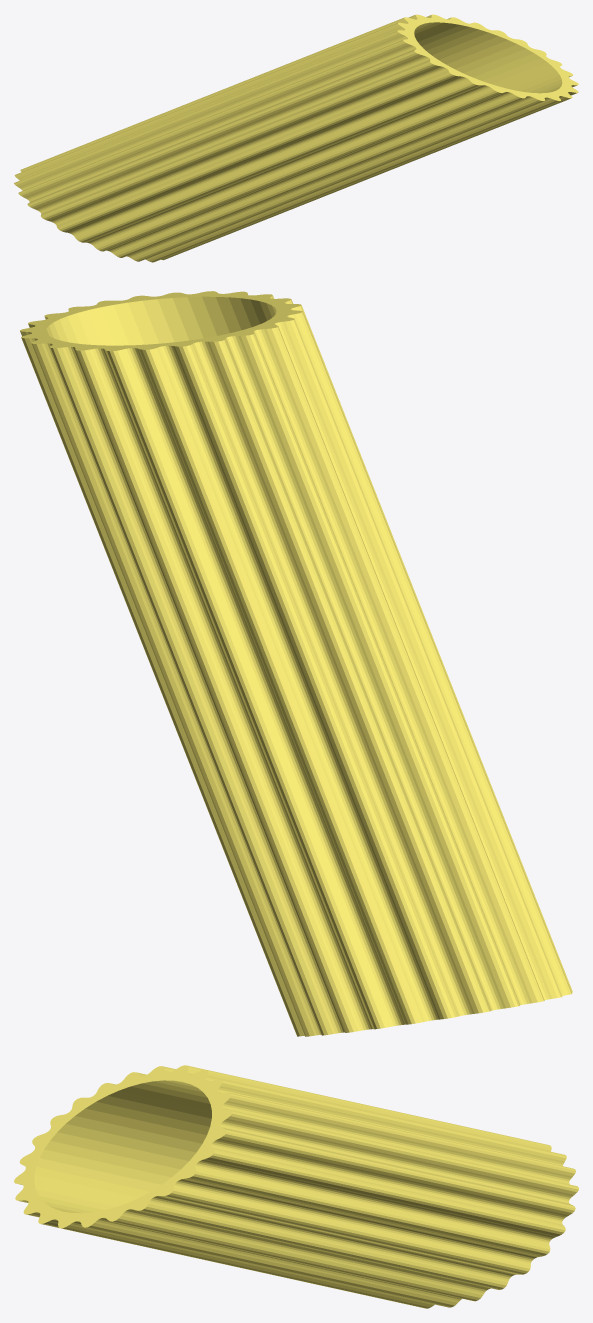
The model's file is Penne.003.gltf.
The picture shows the model from 3 angles, top to bottom: view 1: azimuth 30°, elevation 25°; view 2: azimuth 150°, elevation 25°; view 3: azimuth 270°, elevation 25°; orthographic projection. The views are drawn at different scales.
Parts seen in each view (by area): view 1: Penne.003; view 2: Penne.003; view 3: Penne.003.
Part boxes in pixels (x1,y1,x2,y2): Penne.003: [14, 14, 578, 262]; Penne.003: [20, 291, 572, 1036]; Penne.003: [14, 1065, 578, 1308].
Size of the model in its own units: 1.45 by 0.8508 by 1.29.
